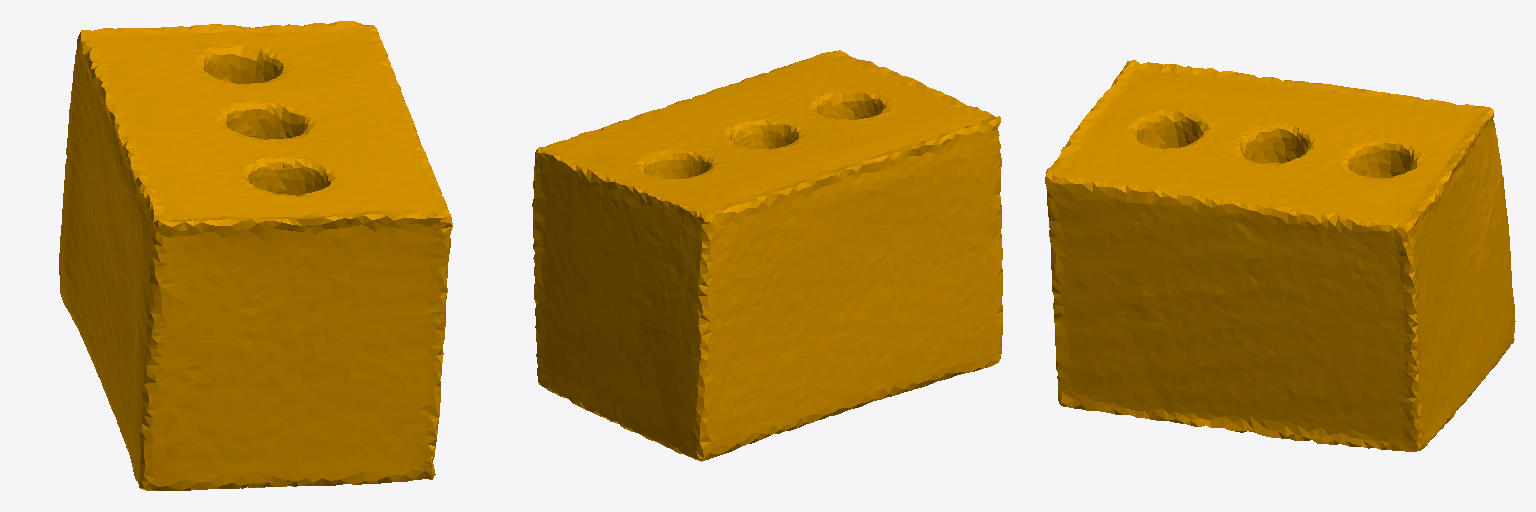
robot.urdf — model.urdf:
<?xml version="0.0" ?>
<robot name="model.urdf">
  <link name="baseLink">
    <contact>
      <lateral_friction value="1.0"/>
      <rolling_friction value="0.0"/>
      <contact_cfm value="0.0"/>
      <contact_erp value="1.0"/>
    </contact>
    <inertial>
       <mass value=".028"/>
       <inertia ixx="1e-3" ixy="0" ixz="0" iyy="1e-3" iyz="0" izz="1e-3"/>
    </inertial>
    <visual>
      <geometry>
        <mesh filename="textured_simple_reoriented.obj" scale="1 1 1"/>
      </geometry>
    </visual>
    <collision>
      <geometry>
    	 	<mesh filename="collision_vhacd.obj" scale="1 1 1"/>
      </geometry>
    </collision>
  </link>
</robot>

--- Render facts (derived) ---
3 views of the same robot in one strip: view 1: azimuth 30°, elevation 25°; view 2: azimuth 150°, elevation 25°; view 3: azimuth 270°, elevation 25° (orthographic).
Robot: model.urdf — 1 links, 0 joints (none); root link baseLink; default pose: every joint at zero.
Links seen in each view (by area): view 1: baseLink; view 2: baseLink; view 3: baseLink.
Boxes of the visible links, <box> form: baseLink: <box>59,21,452,490</box>; baseLink: <box>532,50,1002,461</box>; baseLink: <box>1045,60,1515,451</box>.
Bounding box of the posed robot: 0.0745 × 0.0905 × 0.0542 m (x, y, z).
1 mesh visuals loaded from 1 distinct referenced files (1 OBJ).